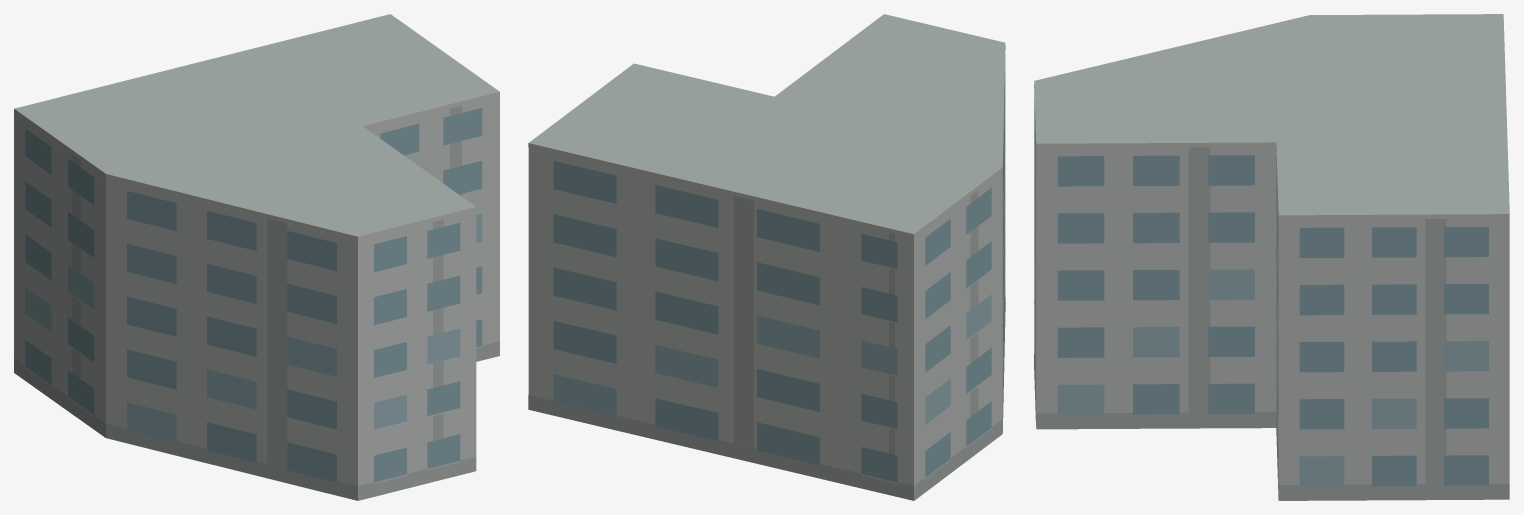
File: residential-24fe09ba-a612-4d3e-9cf9-df2feb87304c.glb
The picture shows the model from 3 angles, left to right: view 1: azimuth 30°, elevation 25°; view 2: azimuth 150°, elevation 25°; view 3: azimuth 270°, elevation 25°; orthographic projection. The views are drawn at different scales.
Visible parts, largest first — view 1: residential-24fe09ba-a612-4d3e-9cf9-df2feb87304c.tmp; view 2: residential-24fe09ba-a612-4d3e-9cf9-df2feb87304c.tmp; view 3: residential-24fe09ba-a612-4d3e-9cf9-df2feb87304c.tmp.
Part boxes in pixels (x1,y1,x2,y2): residential-24fe09ba-a612-4d3e-9cf9-df2feb87304c.tmp: [14, 14, 499, 500]; residential-24fe09ba-a612-4d3e-9cf9-df2feb87304c.tmp: [528, 14, 1005, 500]; residential-24fe09ba-a612-4d3e-9cf9-df2feb87304c.tmp: [1034, 14, 1509, 500].
Size of the model in its own units: 23.07 by 15.25 by 23.03.
